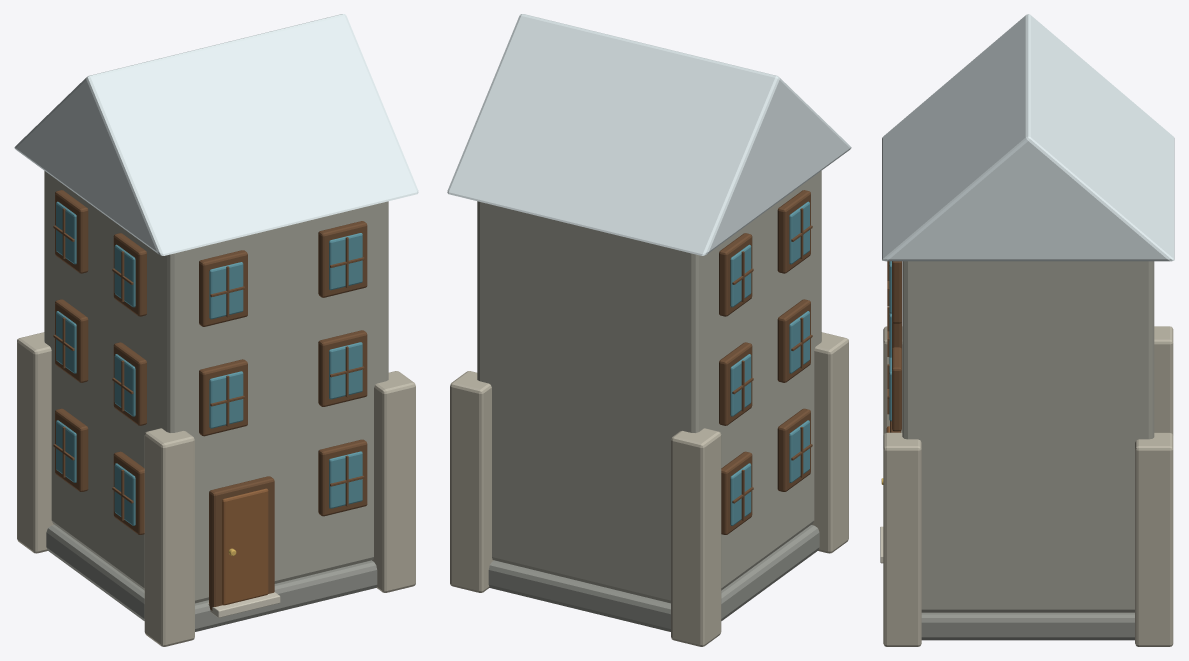
The model's file is snowy-tower-0.glb.
3 views of the same model, side by side, from view 1: azimuth 30°, elevation 25°; view 2: azimuth 150°, elevation 25°; view 3: azimuth 270°, elevation 25° (orthographic).
Visible parts, largest first — view 1: Fieldstone, Snow, Warm civic stone, Dark beams, Blue glass, Foundation stone, Door oak, Cut limestone; view 2: Fieldstone, Snow, Warm civic stone, Dark beams, Foundation stone, Blue glass; view 3: Fieldstone, Snow, Warm civic stone, Foundation stone, Dark beams, Blue glass.
Boxes of the visible parts, <box> form: Fieldstone: <box>44,171,388,603</box>; Snow: <box>14,14,418,255</box>; Warm civic stone: <box>17,332,415,646</box>; Dark beams: <box>53,190,367,610</box>; Blue glass: <box>56,201,362,525</box>; Foundation stone: <box>46,525,377,631</box>; Door oak: <box>222,488,268,605</box>; Cut limestone: <box>208,592,280,617</box>; Fieldstone: <box>477,171,821,603</box>; Snow: <box>447,14,851,255</box>; Warm civic stone: <box>450,332,848,646</box>; Dark beams: <box>719,190,812,534</box>; Foundation stone: <box>488,525,819,631</box>; Blue glass: <box>730,201,809,525</box>; Fieldstone: <box>902,261,1154,612</box>; Snow: <box>882,14,1174,261</box>; Warm civic stone: <box>883,326,1173,646</box>; Foundation stone: <box>921,612,1134,640</box>; Dark beams: <box>887,261,901,432</box>; Blue glass: <box>889,261,891,421</box>.
Bounding box in the file's own units: 2.94 × 5.61 × 2.92.
